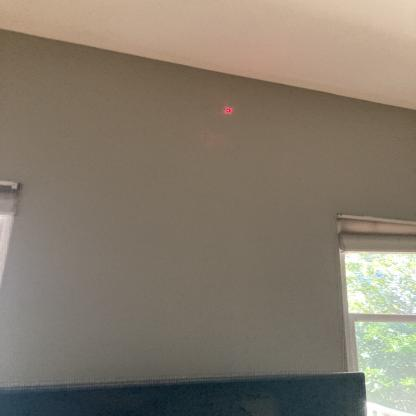target: (221, 103, 236, 119)
